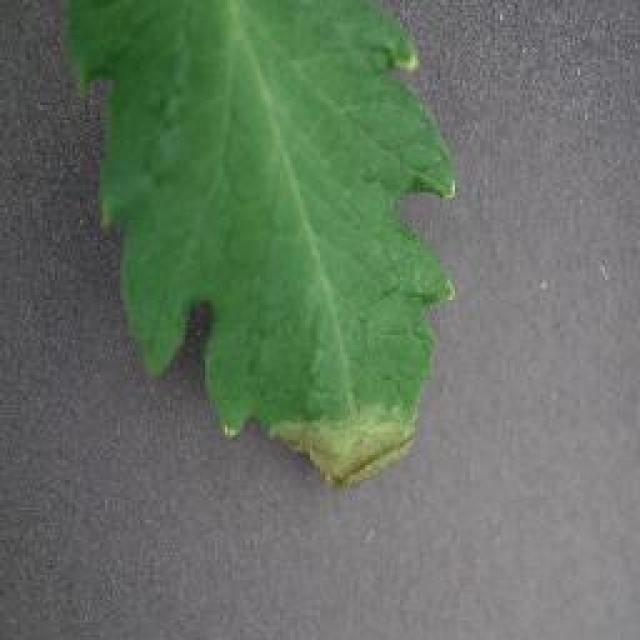Tomato___Late_blight: (60, 0, 458, 490)
